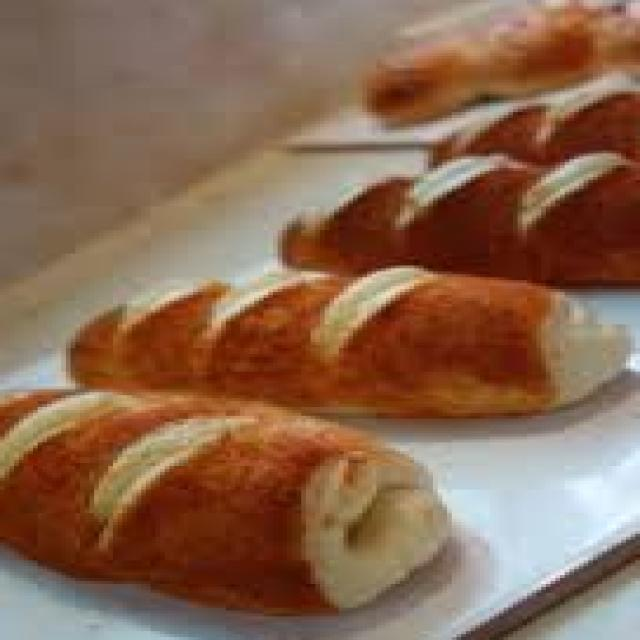inorganic: (17, 372, 480, 622), (67, 253, 631, 445), (258, 146, 636, 298)
